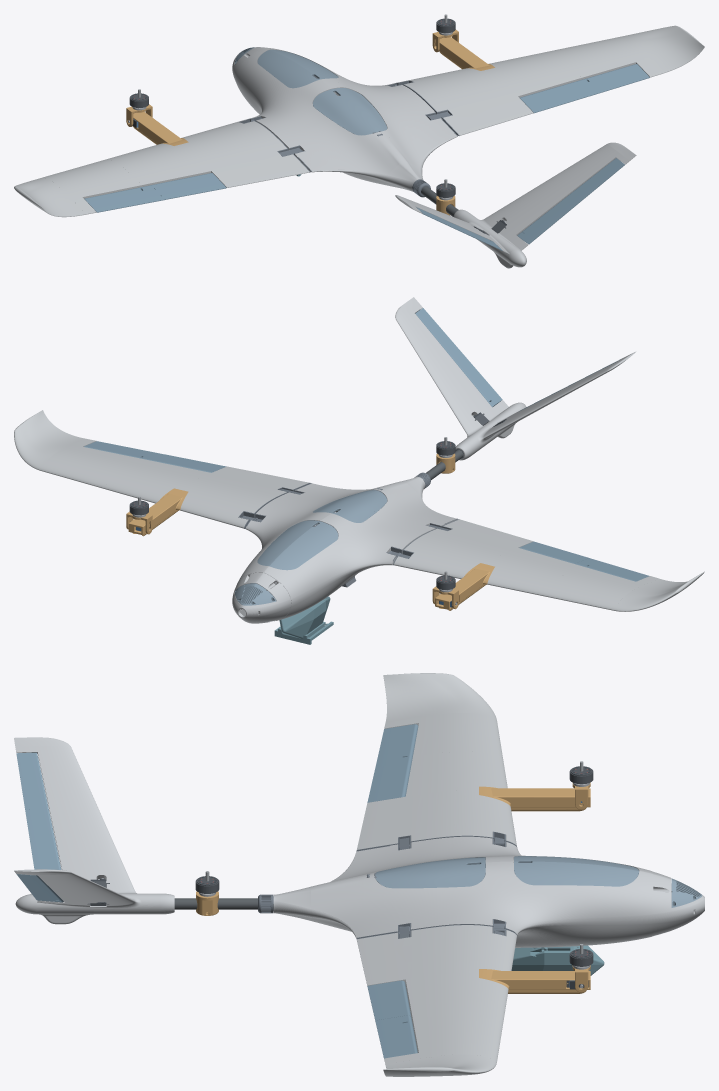
Rendered from stallion_pod_w12_pod_batt.glb.
3 renders of one model, top to bottom at view 1: azimuth 30°, elevation 25°; view 2: azimuth 150°, elevation 25°; view 3: azimuth 270°, elevation 25°, orthographic. The views are drawn at different scales.
Visible parts, largest first — view 1: WING 1L VTOL, WING 1R VTOL, FUS 4L, WING 2L VTOL, WING 2R VTOL, WING 3 L NO LED, FUS 5L, WING 3 R NO LED, WINGTIP R NO LED, FUS 4R, V TAIL 1 R, WINGTIP L NO LED (+20 smaller); view 2: WING 1L VTOL, WING 1R VTOL, WING 2L VTOL, WING 3 L NO LED, WING 2R VTOL, FUS 2L, WING 3 R NO LED, FUS 1L, WINGTIP R NO LED, V TAIL 1 R, NOSE, FUS 4L (+24 smaller); view 3: WING 1R VTOL, WING 1L VTOL, FUS 2R, FUS 1R, V TAIL 1 L, WINGTIP L NO LED, WING 2R VTOL, FUS 4R, WING 3 R NO LED, WING 2L VTOL, WING 3 L NO LED, FUS 5R (+24 smaller).
Part boxes in pixels (bbox=[...]): WING 1L VTOL: bbox=[182, 119, 309, 187]; WING 1R VTOL: bbox=[398, 68, 533, 135]; FUS 4L: bbox=[273, 114, 381, 181]; WING 2L VTOL: bbox=[107, 143, 211, 186]; WING 2R VTOL: bbox=[488, 52, 581, 97]; WING 3 L NO LED: bbox=[43, 159, 141, 214]; FUS 5L: bbox=[308, 137, 418, 191]; WING 3 R NO LED: bbox=[547, 37, 659, 79]; WINGTIP R NO LED: bbox=[617, 25, 704, 74]; FUS 4R: bbox=[370, 97, 453, 141]; V TAIL 1 R: bbox=[489, 178, 570, 235]; WINGTIP L NO LED: bbox=[14, 177, 86, 217]; WING 1L VTOL: bbox=[394, 519, 533, 578]; WING 1R VTOL: bbox=[180, 466, 309, 528]; WING 2L VTOL: bbox=[487, 548, 581, 596]; WING 3 L NO LED: bbox=[544, 566, 658, 610]; WING 2R VTOL: bbox=[104, 459, 210, 503]; FUS 2L: bbox=[316, 517, 396, 600]; WING 3 R NO LED: bbox=[40, 438, 141, 488]; FUS 1L: bbox=[264, 554, 331, 620]; WINGTIP R NO LED: bbox=[14, 410, 85, 470]; V TAIL 1 R: bbox=[428, 356, 491, 428]; NOSE: bbox=[232, 572, 291, 623]; FUS 4L: bbox=[370, 488, 455, 535]; WING 1R VTOL: bbox=[356, 925, 516, 985]; WING 1L VTOL: bbox=[357, 790, 516, 849]; FUS 2R: bbox=[501, 861, 579, 947]; FUS 1R: bbox=[579, 871, 652, 945]; V TAIL 1 L: bbox=[50, 811, 131, 884]; WINGTIP L NO LED: bbox=[383, 673, 496, 722]; WING 2R VTOL: bbox=[405, 973, 508, 1024]; FUS 4R: bbox=[363, 875, 449, 936]; WING 3 R NO LED: bbox=[384, 1013, 503, 1064]; WING 2L VTOL: bbox=[405, 751, 507, 796]; WING 3 L NO LED: bbox=[384, 712, 503, 759]; FUS 5R: bbox=[273, 877, 363, 938].
Size of the model in its own units: 1.34 by 0.2836 by 0.9914.
